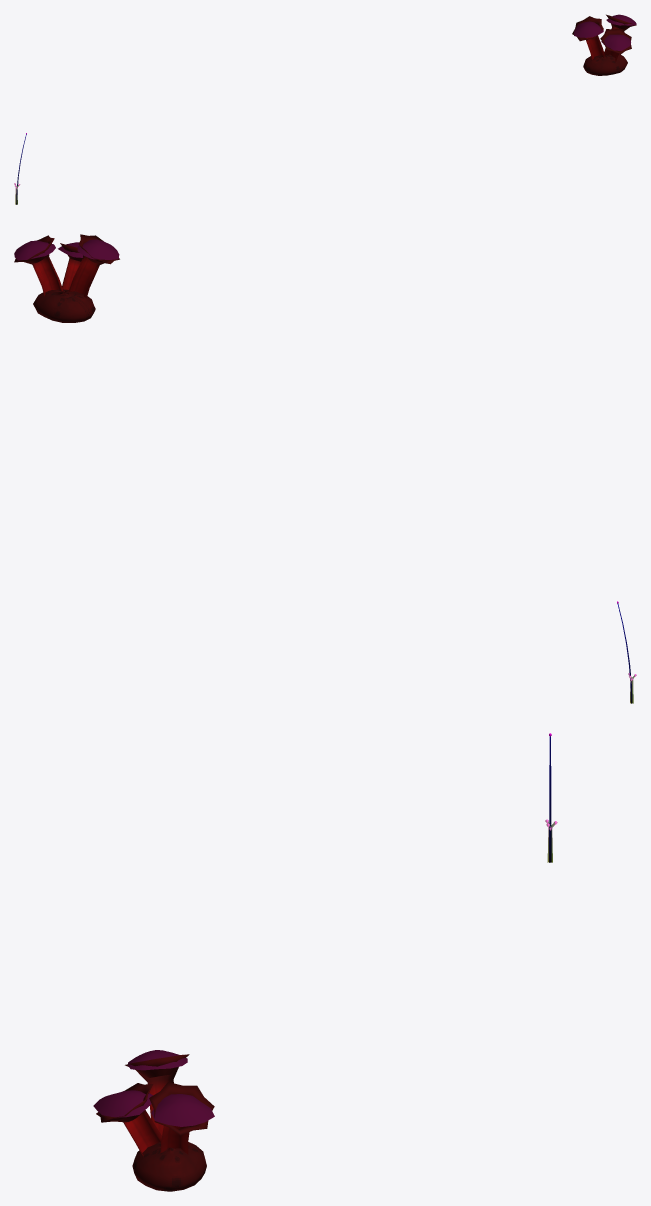
The model's file is frogspawn.glb.
3 renders of one model, top to bottom at view 1: azimuth 30°, elevation 25°; view 2: azimuth 150°, elevation 25°; view 3: azimuth 270°, elevation 25°, orthographic. The views are drawn at different scales.
Visible parts, largest first — view 1: Body; view 2: Body; view 3: Body.
Boxes of the visible parts, x1,y1,x2,y2 form: Body: (572, 14, 636, 75); Body: (14, 234, 119, 322); Body: (93, 1050, 214, 1191).
Bounding box in the file's own units: 64.18 × 16.19 × 24.45.
Materials: 5 (4 with a texture image).
